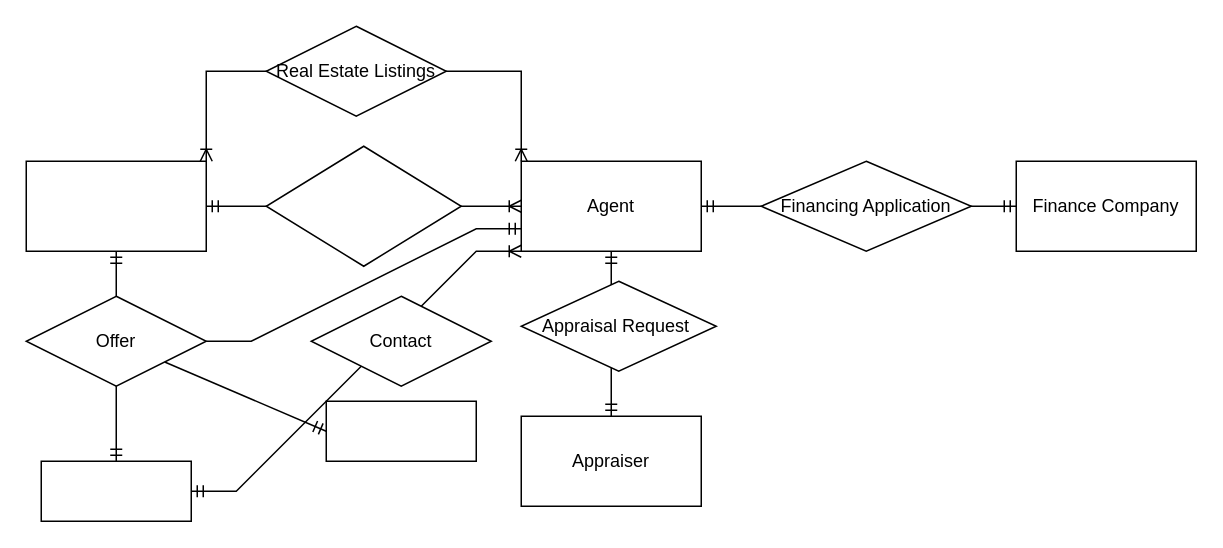
The diagram is 1223 pixels wide and 548 high, and some of its shapes have lost their labels. The box of each missing label's shape, as (x1, y1, x2, y2) in pixels:
Buyer: (25, 160, 206, 251)
Buyer Request: (265, 145, 461, 266)
Purchase Agreement: (325, 400, 476, 461)
Seller: (40, 460, 191, 521)
